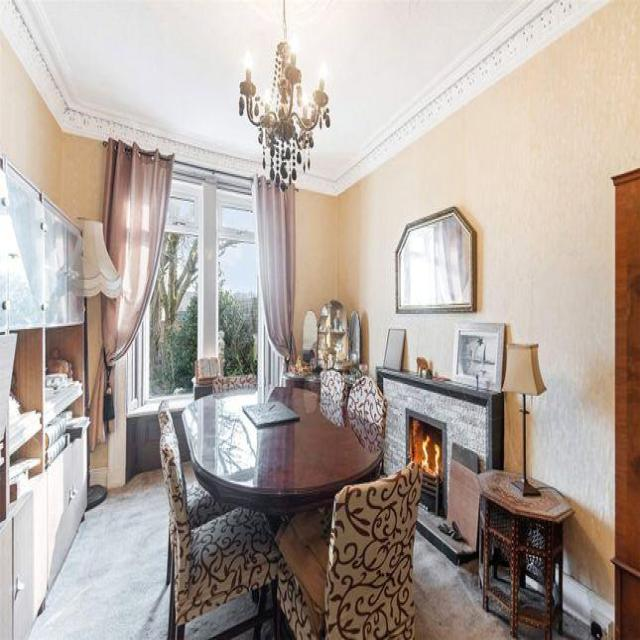Wall: (296, 0, 640, 601), (287, 0, 605, 194), (0, 0, 282, 175), (30, 471, 169, 638), (0, 32, 105, 218), (414, 535, 510, 639), (186, 596, 256, 639), (183, 461, 198, 487)
